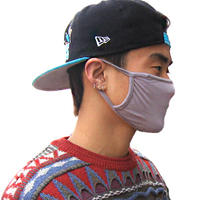face_mask: (114, 31, 174, 132)
